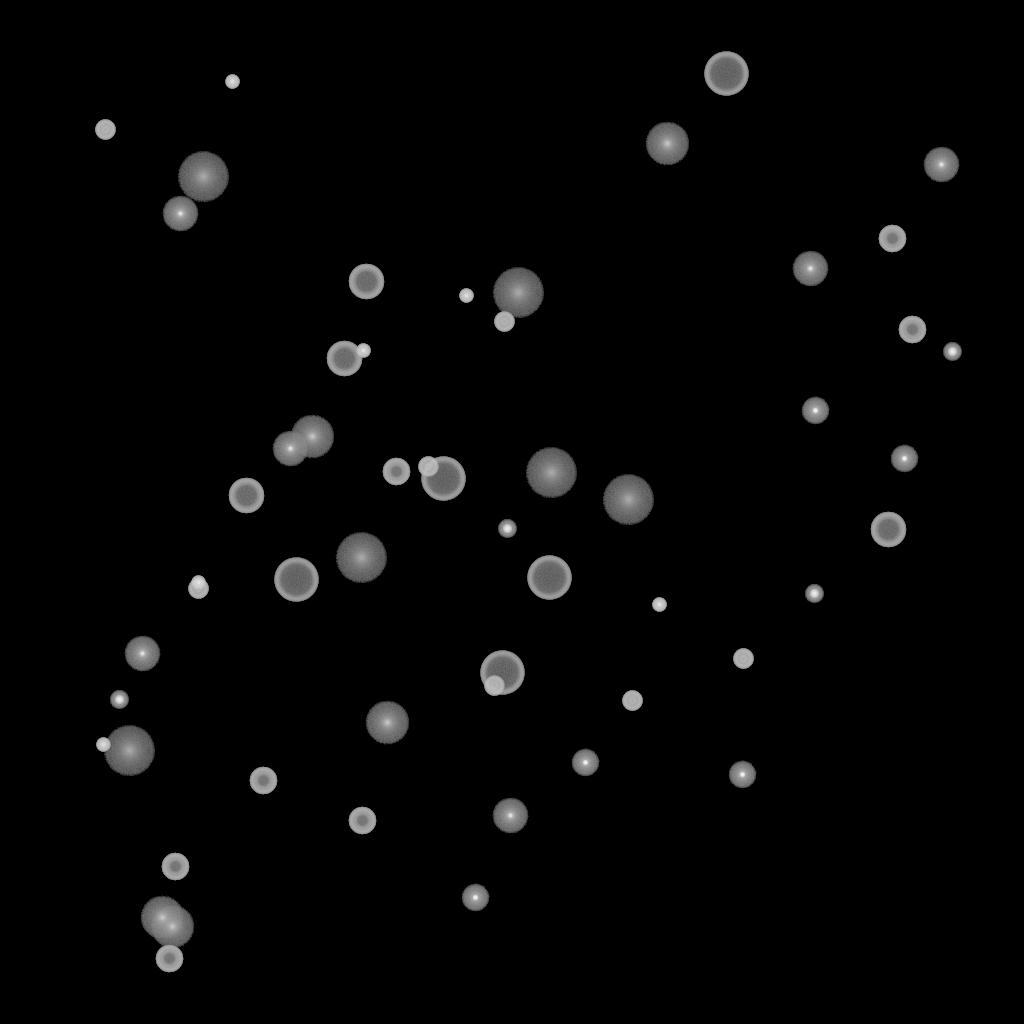depth:-10: (801, 397, 829, 425), (461, 884, 489, 912), (728, 761, 756, 789), (890, 445, 918, 473), (571, 749, 599, 777)
depth:-20: (943, 343, 961, 361), (805, 585, 823, 603), (110, 691, 128, 709), (498, 520, 516, 538)
depth:-30: (652, 598, 666, 612), (96, 738, 110, 752), (356, 344, 370, 358), (191, 576, 205, 590), (225, 75, 239, 89), (459, 289, 473, 303)
depth:-40: (622, 691, 642, 711), (188, 579, 208, 599), (494, 312, 514, 332), (95, 120, 115, 140), (418, 457, 438, 477), (484, 676, 504, 696), (733, 649, 753, 669)
depth:-50: (348, 807, 376, 835), (878, 225, 906, 253), (249, 767, 277, 795), (382, 458, 410, 486), (155, 945, 183, 973), (898, 316, 926, 344), (161, 853, 189, 881)
depth:-60: (228, 478, 264, 514), (348, 264, 384, 300), (326, 341, 362, 377), (870, 512, 906, 548)
depth:-70: (274, 558, 318, 602), (480, 651, 524, 695), (704, 52, 748, 96), (421, 457, 465, 501), (527, 556, 571, 600)
depth:0: (272, 431, 308, 467), (923, 147, 959, 183), (492, 798, 528, 834), (162, 196, 198, 232), (792, 251, 828, 287), (124, 636, 160, 672)
depth:10: (150, 905, 194, 949), (645, 122, 689, 166), (290, 415, 334, 459), (365, 701, 409, 745), (140, 896, 184, 940)
depth:20: (103, 726, 155, 776), (602, 475, 654, 525), (525, 448, 577, 498), (177, 152, 229, 202), (492, 268, 544, 318), (335, 533, 387, 583)
